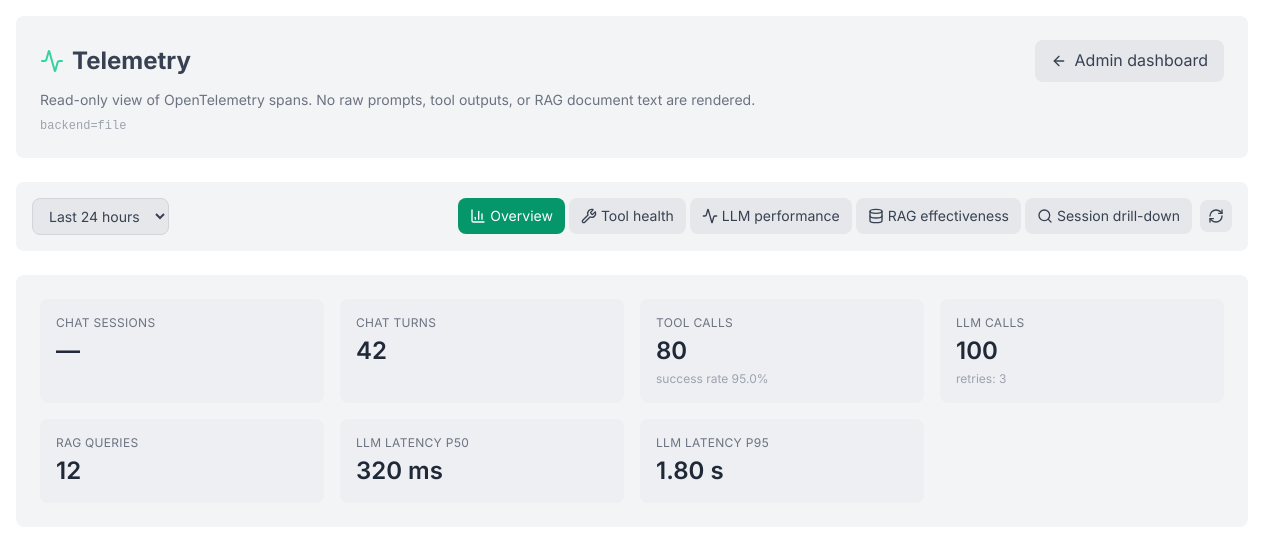
Test case: TelemetryDashboard › switches to Tool health tab and loads per-tool rollup
The image size is (1265, 544).
Expected: the text "Chat turns" is shown, [356,315,436,330]
Click the button "Tool health". click: (627, 216)
box: [569,198,686,234]
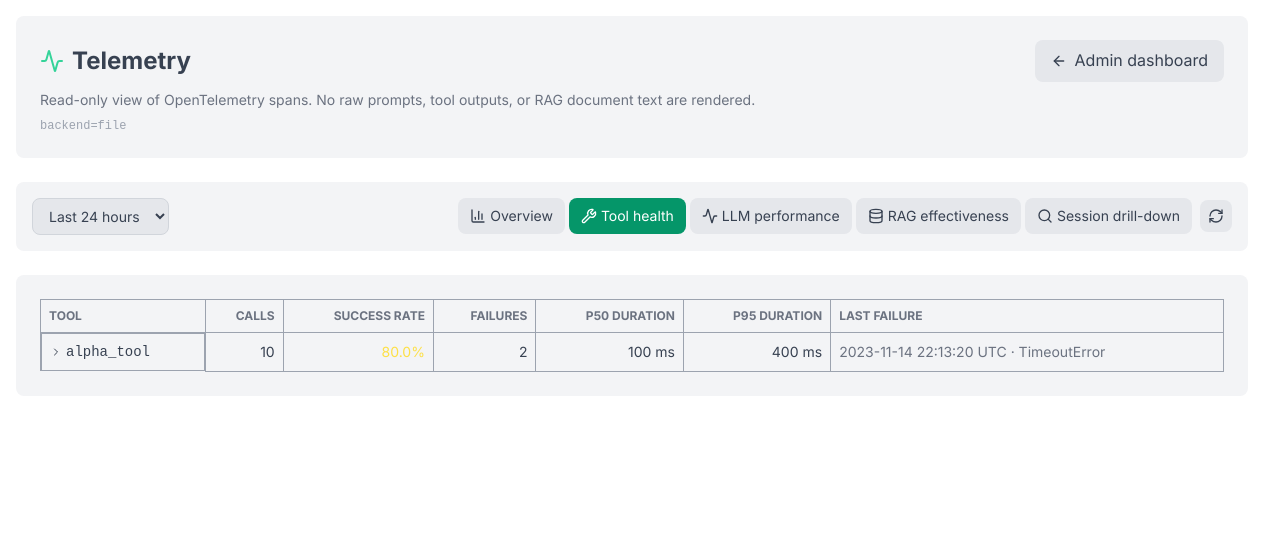
Now the text "alpha_tool" is shown, box [41,333,205,371]
